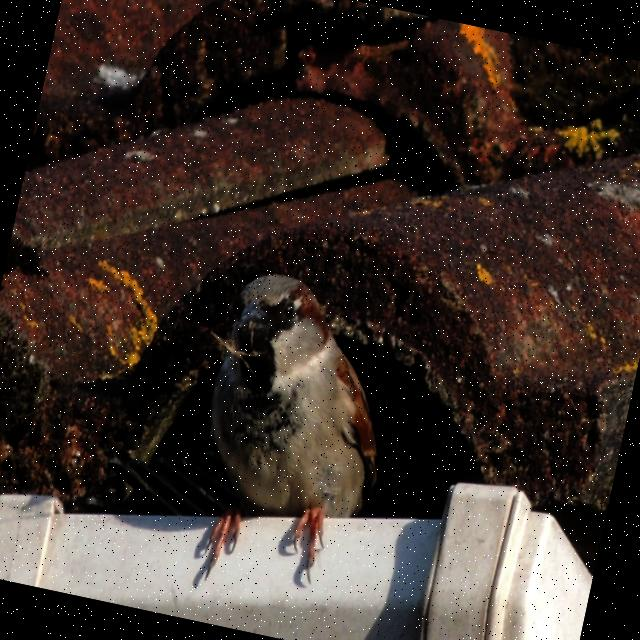bird: (162, 262, 416, 610)
